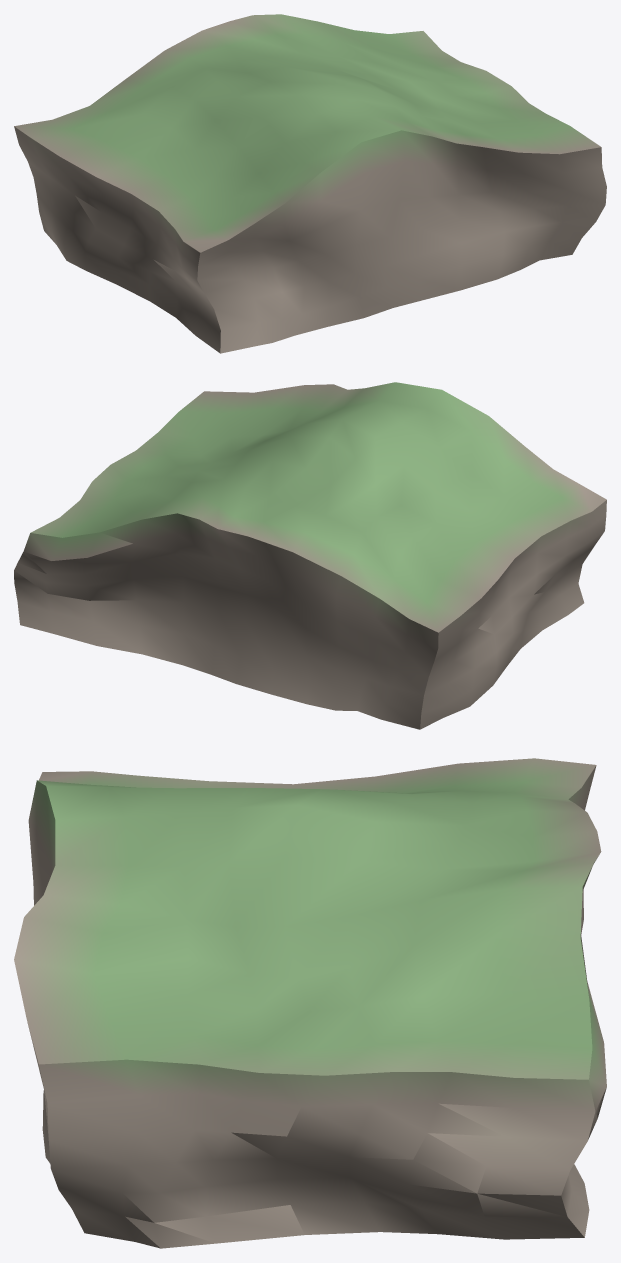
The model's file is headland_right.glb.
3 views of the same model, one above another, from view 1: azimuth 30°, elevation 25°; view 2: azimuth 150°, elevation 25°; view 3: azimuth 270°, elevation 25° (orthographic). The views are drawn at different scales.
Visible parts, largest first — view 1: body; view 2: body; view 3: body.
Part boxes in pixels (x1,y1,x2,y2): body: (14,14,606,353); body: (14,382,606,729); body: (14,758,606,1248).
Bounding box in the file's own units: 59.91 × 23.98 × 45.17.
